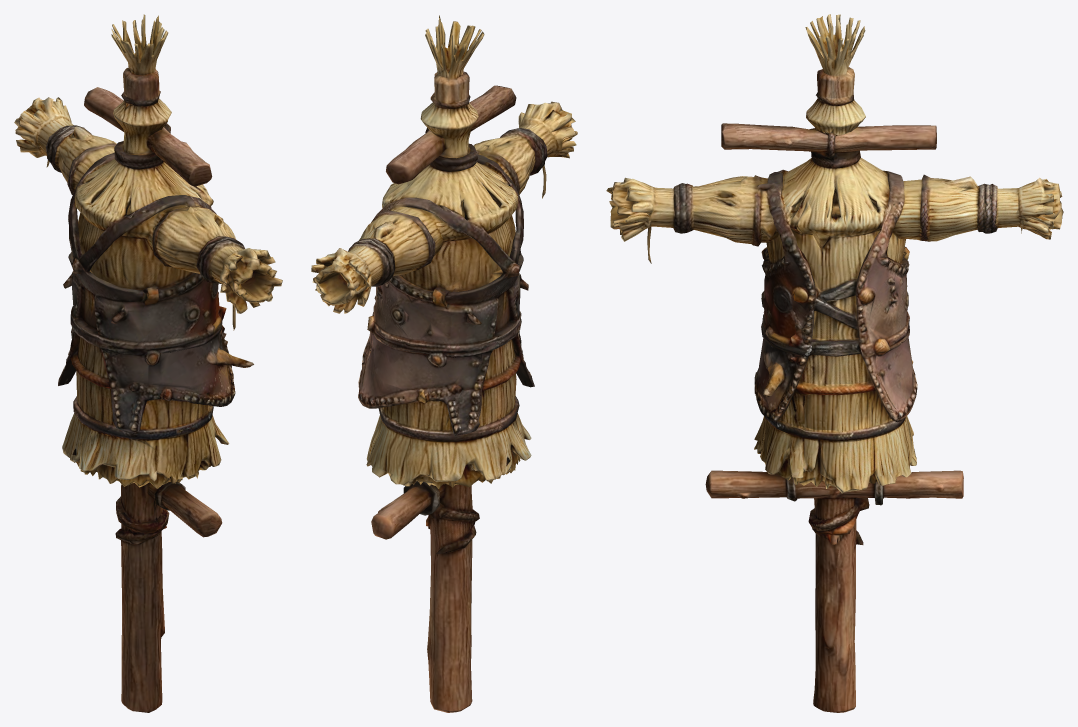
Rendered from dummy-high.glb.
3 renders of one model, left to right at view 1: azimuth 30°, elevation 25°; view 2: azimuth 150°, elevation 25°; view 3: azimuth 270°, elevation 25°, orthographic.
Size of the model in its own units: 0.2207 by 0.9971 by 0.5986.
Materials: 1 (1 with a texture image).
